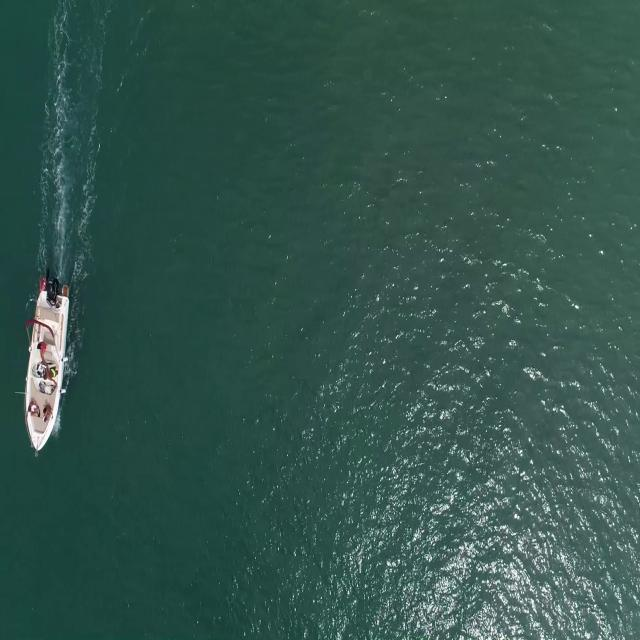boat: (25, 291, 68, 458)
life_buoy: (39, 276, 47, 289)
person: (43, 363, 59, 386), (26, 396, 40, 422), (38, 339, 48, 363), (43, 404, 52, 423)
